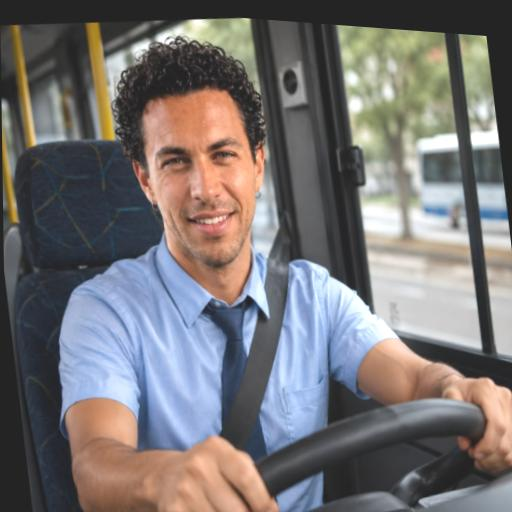Hands-on-the-Wheel: (121, 409, 294, 512), (440, 348, 512, 495)
